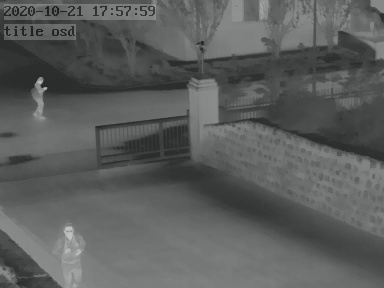person: (58, 220, 87, 288), (32, 77, 47, 117)
